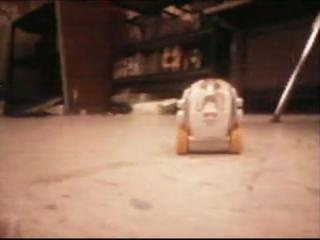cozmo: (174, 76, 244, 154)
